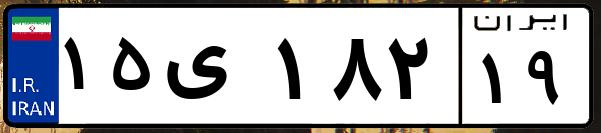1: (270, 28, 330, 110), (57, 26, 110, 100), (475, 38, 525, 113)
2: (385, 28, 445, 110)
5: (110, 28, 158, 98)
8: (330, 28, 385, 110)
9: (525, 38, 570, 115)
ی: (158, 20, 270, 120)
